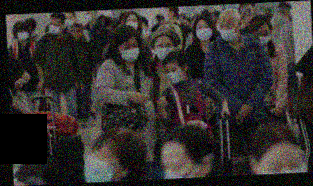with_mask: (80, 144, 122, 182), (158, 156, 196, 179), (118, 41, 140, 64), (218, 20, 238, 43), (154, 39, 174, 62), (193, 23, 214, 41), (164, 65, 182, 85), (254, 28, 272, 47), (123, 16, 138, 32), (47, 21, 62, 35), (14, 29, 30, 42), (240, 3, 253, 18), (163, 9, 171, 23), (83, 11, 93, 22), (64, 16, 74, 27)
without_mask: (70, 25, 83, 40)
